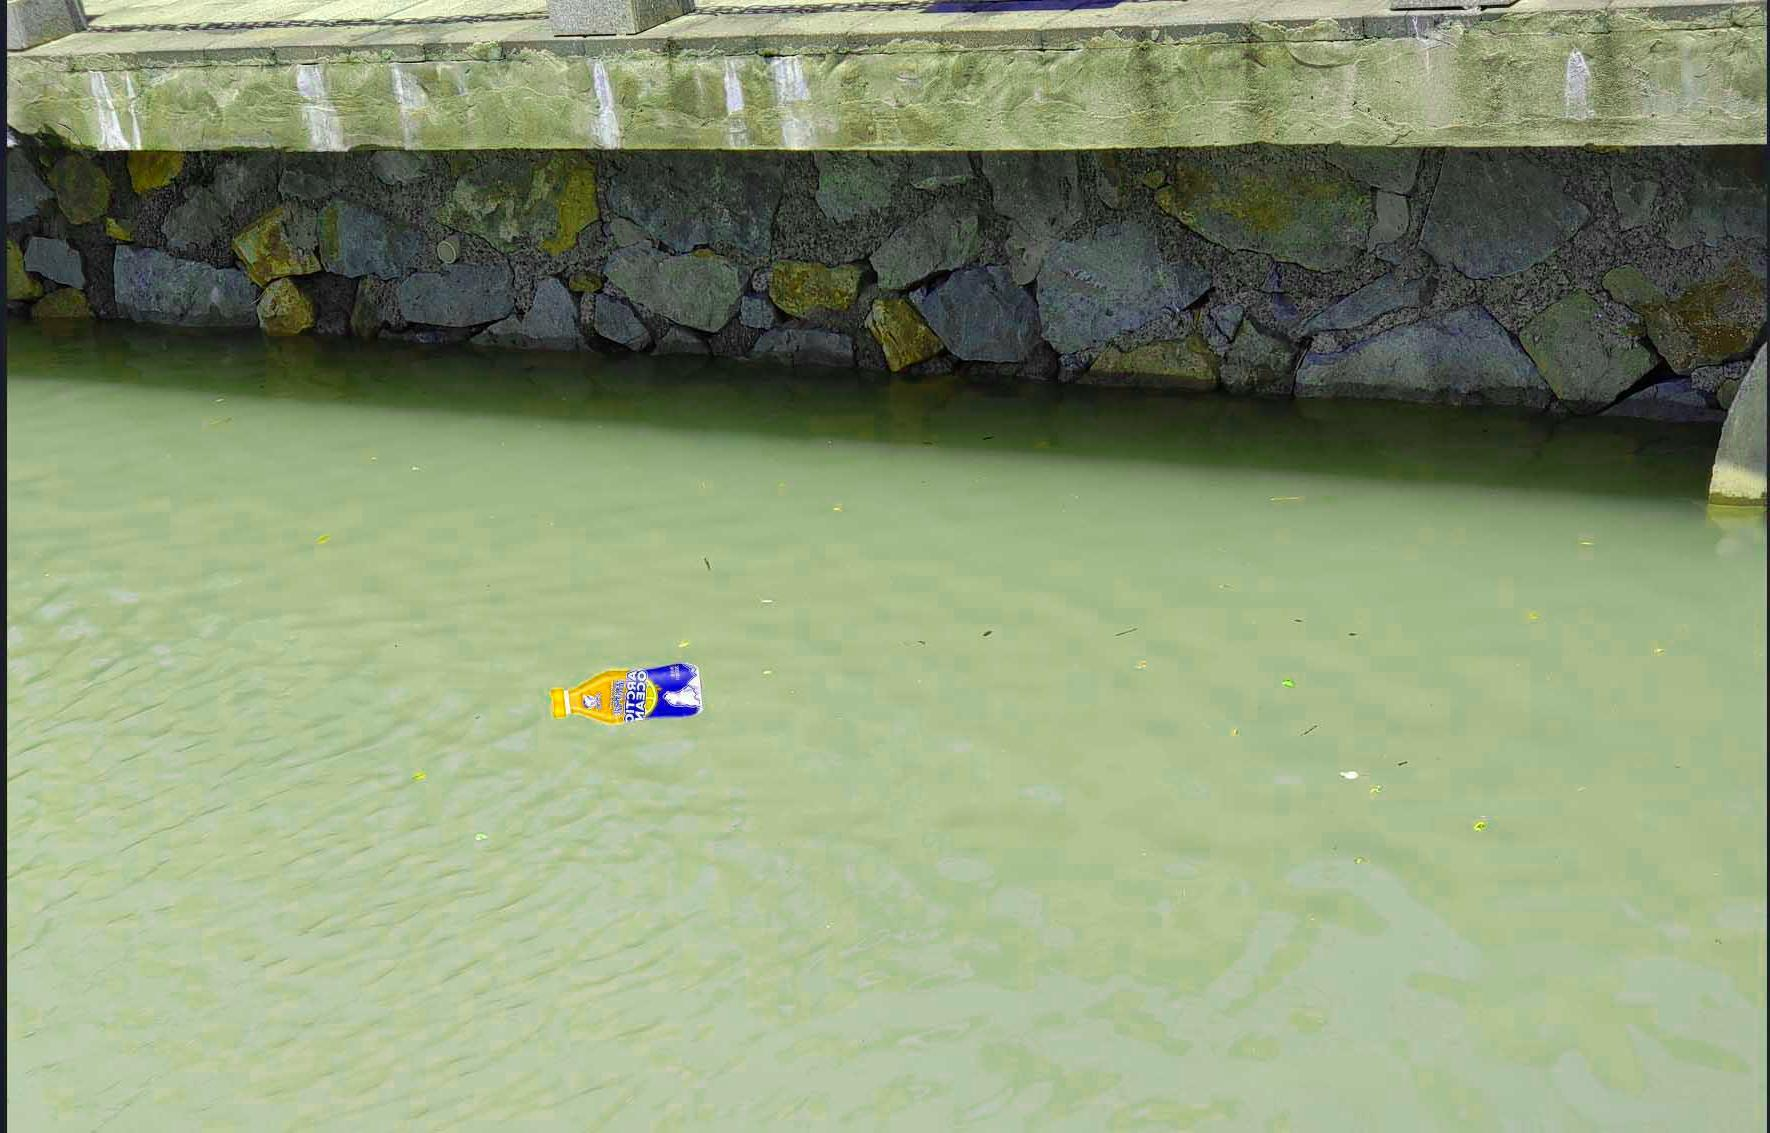Plastic: (539, 653, 713, 734)
